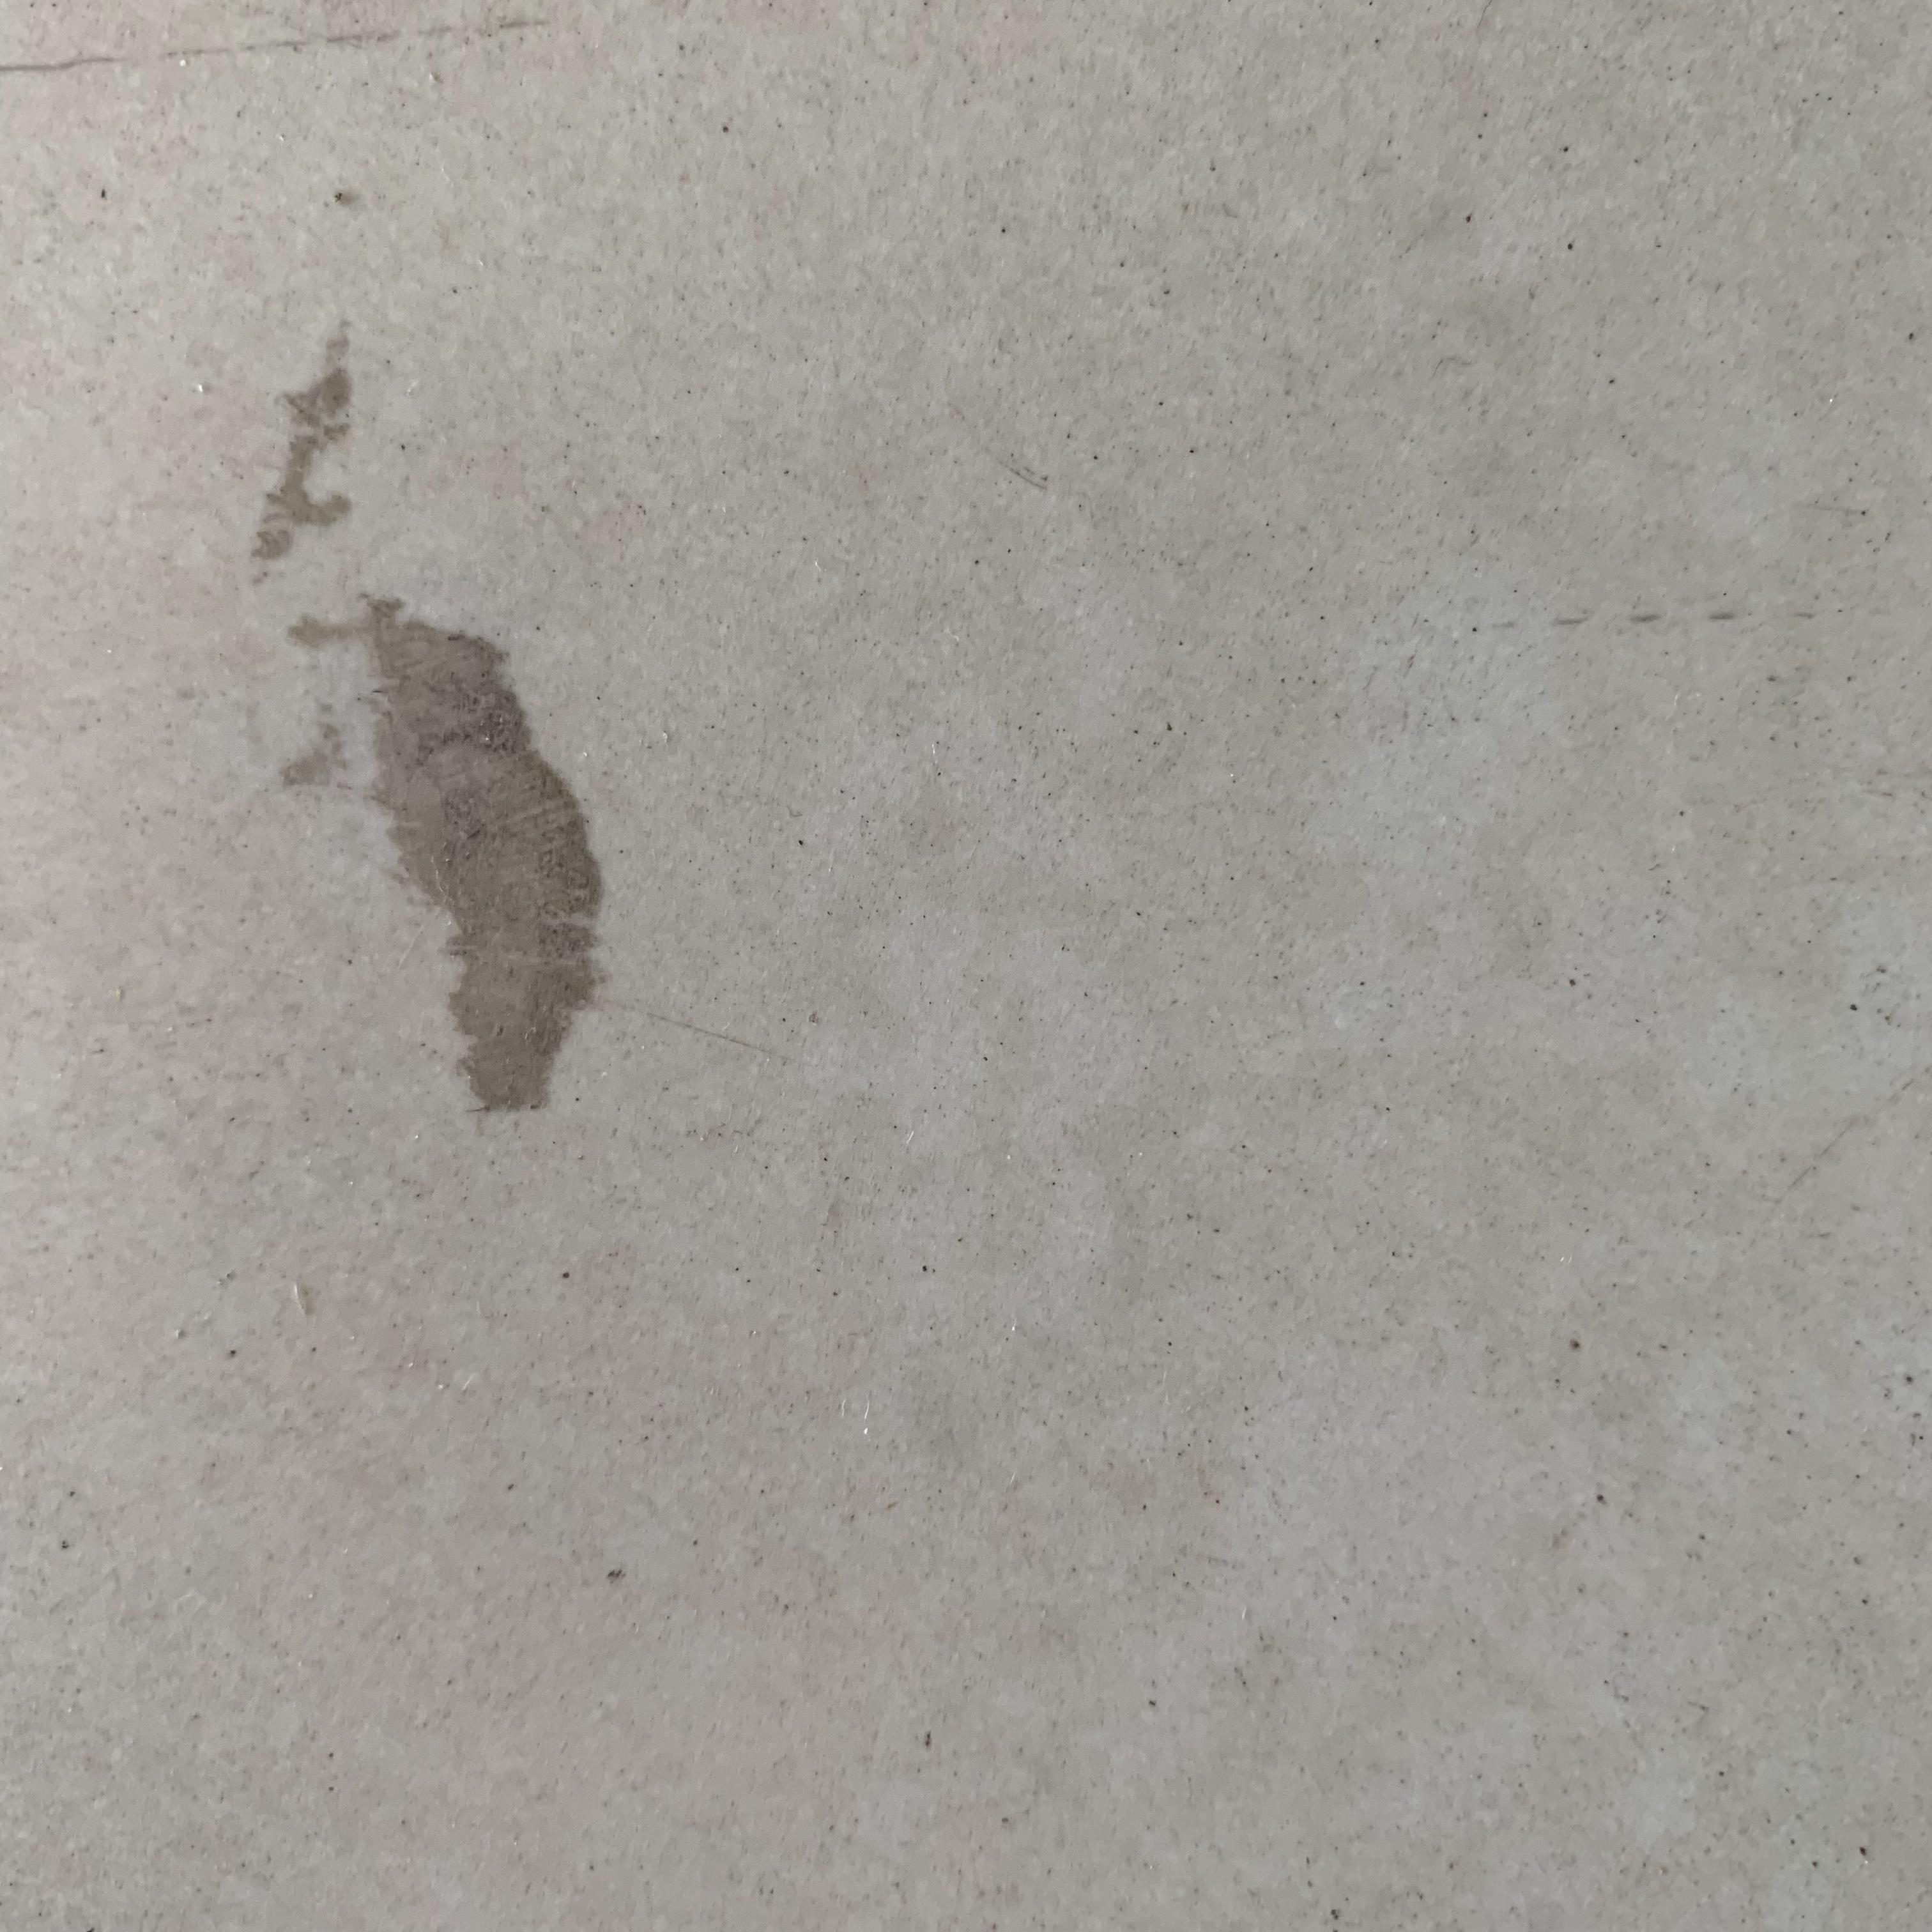grey spot: (281, 598, 616, 1108), (246, 326, 350, 586)
